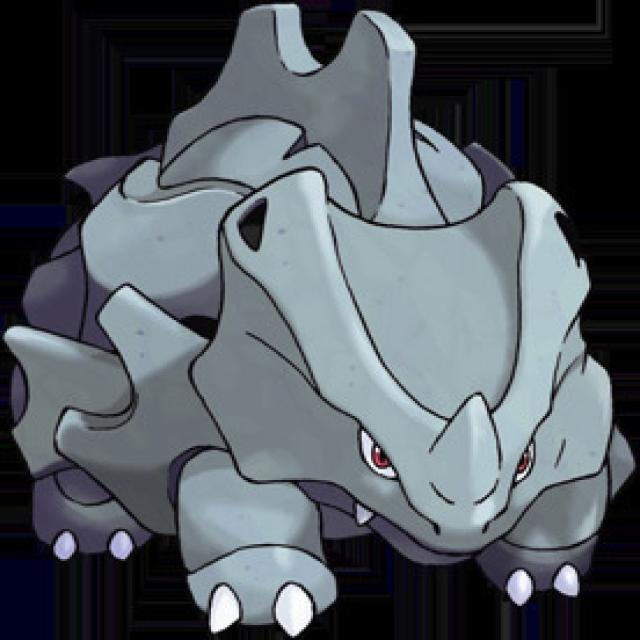Rhyhorn: (13, 60, 620, 586)
